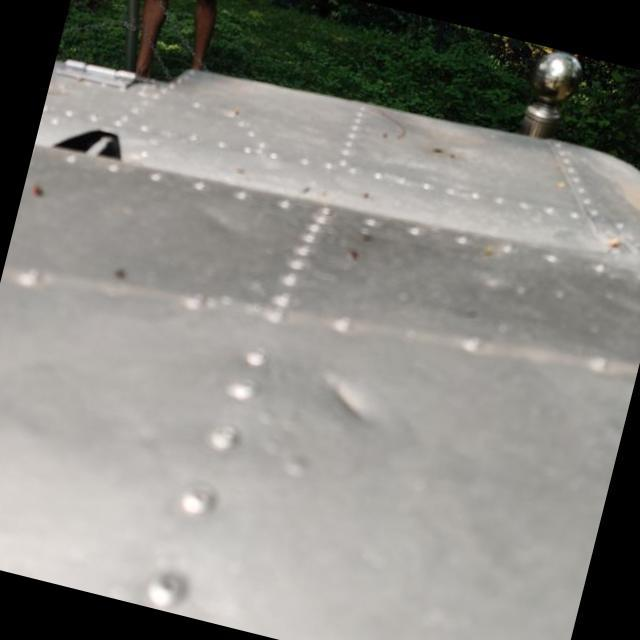Dent: (278, 334, 419, 470)
